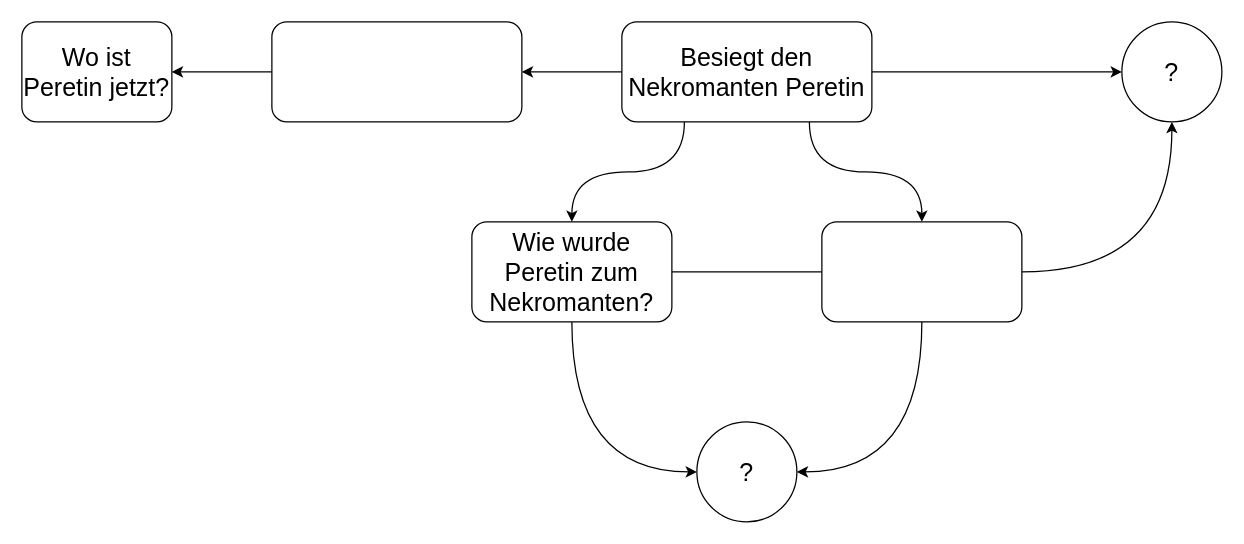
Some shapes in this 1244 by 544 pixel diagram are drawn without their labels. Each missing label, with the centre of its shape:
Peretin ist in die Niedermark geflohen: (x=396, y=71)
Warum wurde Peretin Nekromant?: (x=921, y=271)
